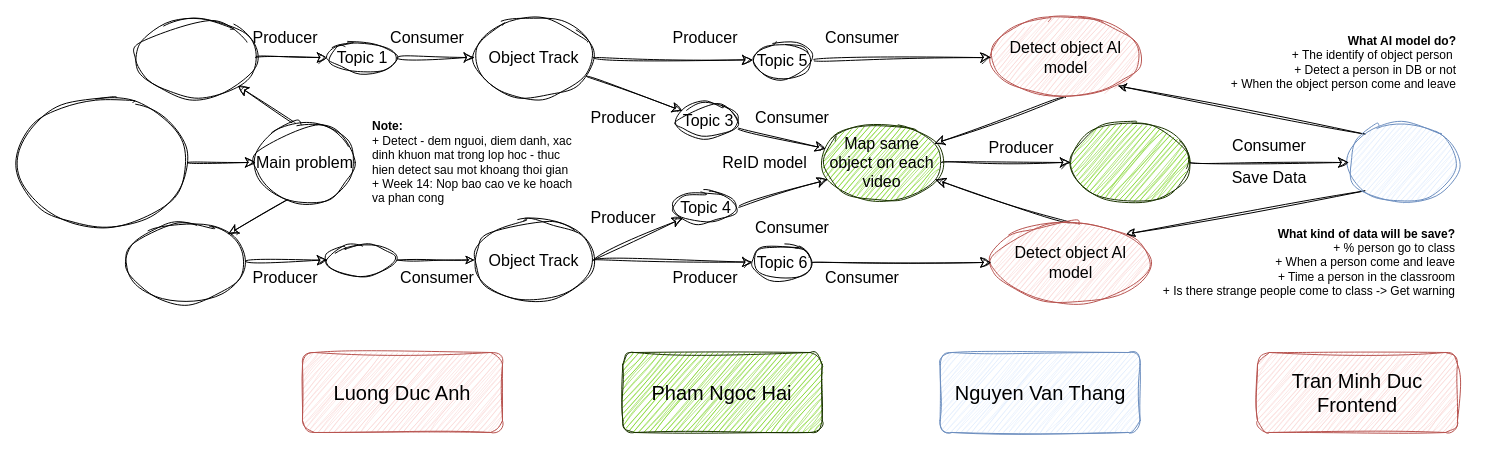
Image size: 1485x450. Some labels were removed from this diagram. The shapes that lost their labels are listed below. From the top down, each one's centre as x and y in pixels, then its label:
the point at 196,57: Cam 1
the point at 102,162: MCMOD with Kafka and AI models => Detect face and count
the point at 1130,162: Stay on class whole time?
the point at 1403,162: DB
the point at 186,262: Cam 2
the point at 361,259: Topic 2
